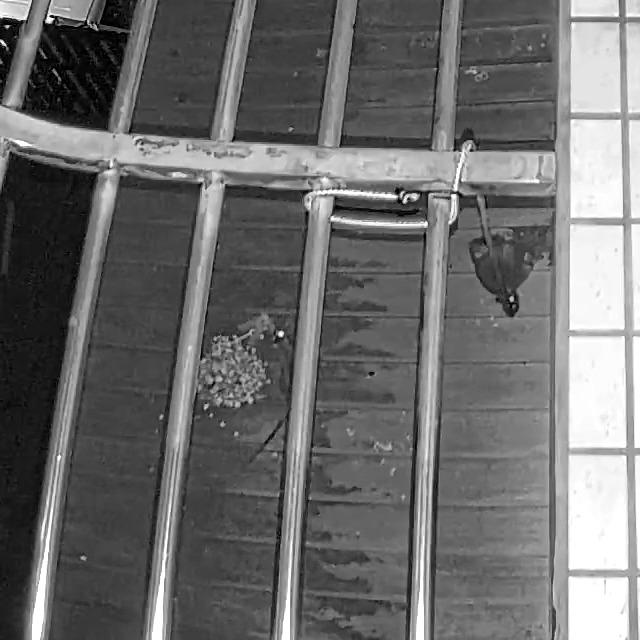rat: (246, 327, 296, 466)
